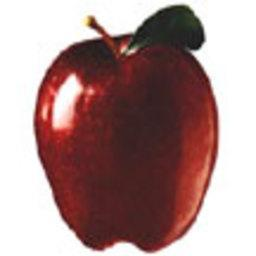apple: (34, 7, 219, 249)
